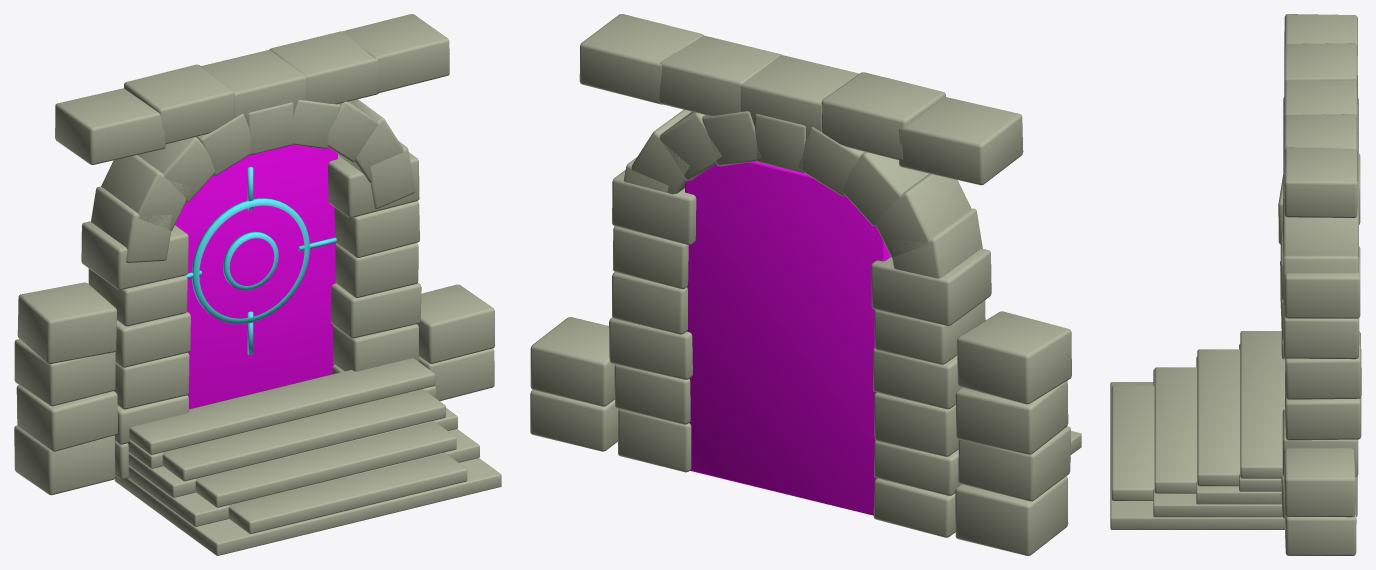
The model's file is ruins_gate.glb.
3 views of the same model, side by side, from view 1: azimuth 30°, elevation 25°; view 2: azimuth 150°, elevation 25°; view 3: azimuth 270°, elevation 25° (orthographic). The views are drawn at different scales.
Visible parts, largest first — view 1: ruins_gate; view 2: ruins_gate; view 3: ruins_gate.
Part boxes in pixels (box(x1,y1,x2,y2)): ruins_gate: box(14, 14, 501, 555); ruins_gate: box(530, 14, 1081, 555); ruins_gate: box(1110, 14, 1361, 555).
Bounding box in the file's own units: 10.06 × 8.05 × 4.98.
